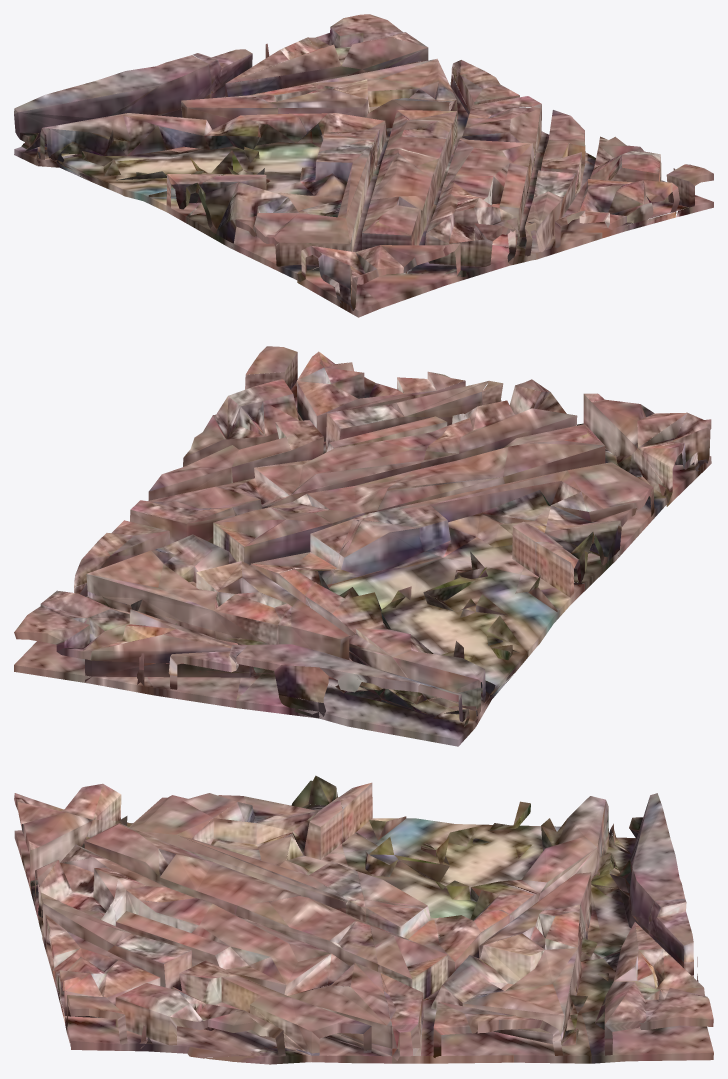
3 renders of one model, top to bottom at view 1: azimuth 30°, elevation 25°; view 2: azimuth 150°, elevation 25°; view 3: azimuth 270°, elevation 25°, orthographic. The views are drawn at different scales.
Visible parts, largest first — view 1: Mesh_0; view 2: Mesh_0; view 3: Mesh_0.
Boxes of the visible parts, x1,y1,x2,y2 form: Mesh_0: (14,14,713,317); Mesh_0: (14,346,711,746); Mesh_0: (14,775,713,1064).
Size of the model in its own units: 266 by 50.78 by 330.
2 materials, 2 textured.
